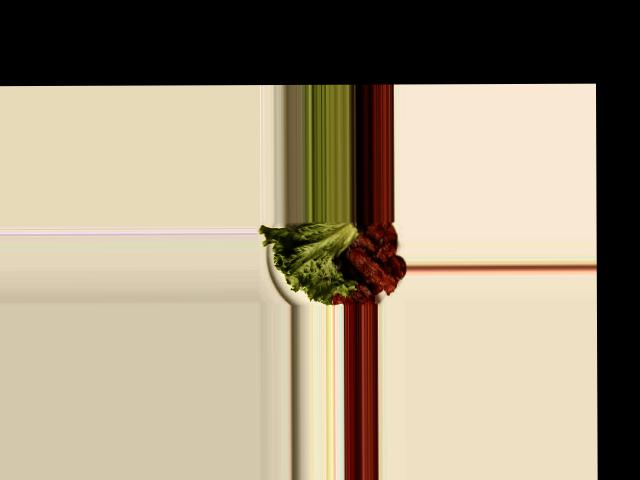lettuce: (264, 221, 357, 302)
